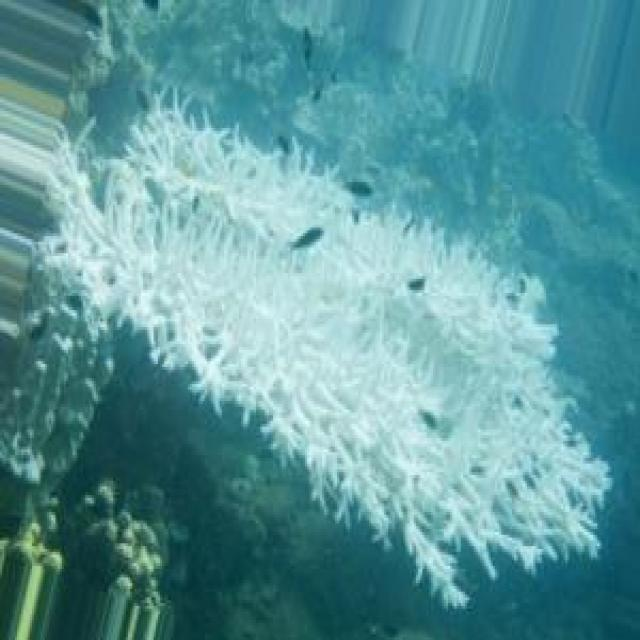bleached coral: (380, 458, 514, 606), (147, 188, 307, 276), (299, 222, 433, 302), (177, 139, 339, 199), (427, 319, 523, 418), (196, 304, 299, 390), (503, 430, 606, 515), (294, 356, 416, 421), (92, 168, 149, 273)
healthy coral: (309, 54, 448, 142), (109, 481, 166, 640), (491, 131, 582, 225), (143, 0, 224, 94), (198, 447, 260, 506)
